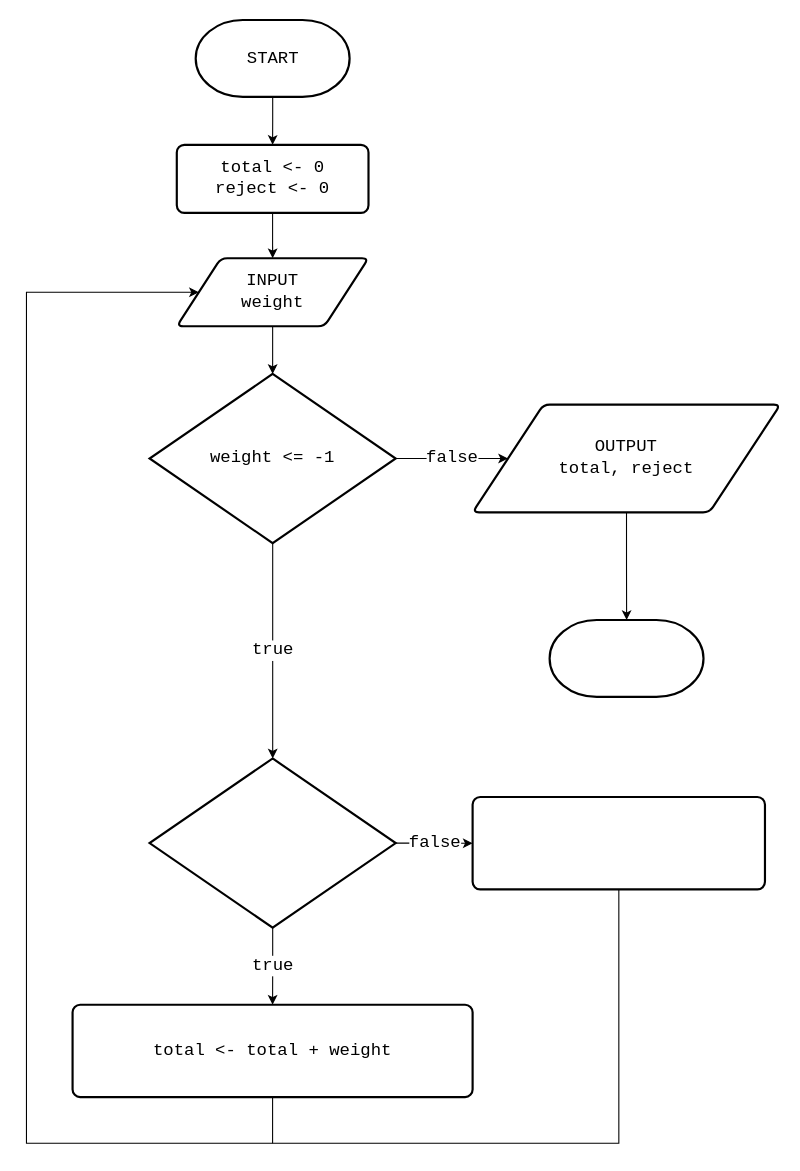
This 800x1171 diagram has some shape labels left out. The shapes that lost their labels are listed below. From the top down, each one's centre as x and y in pixels, then its label:
point (626, 657): END
point (272, 842): weight >= 25
point (618, 842): reject <- reject + 1
